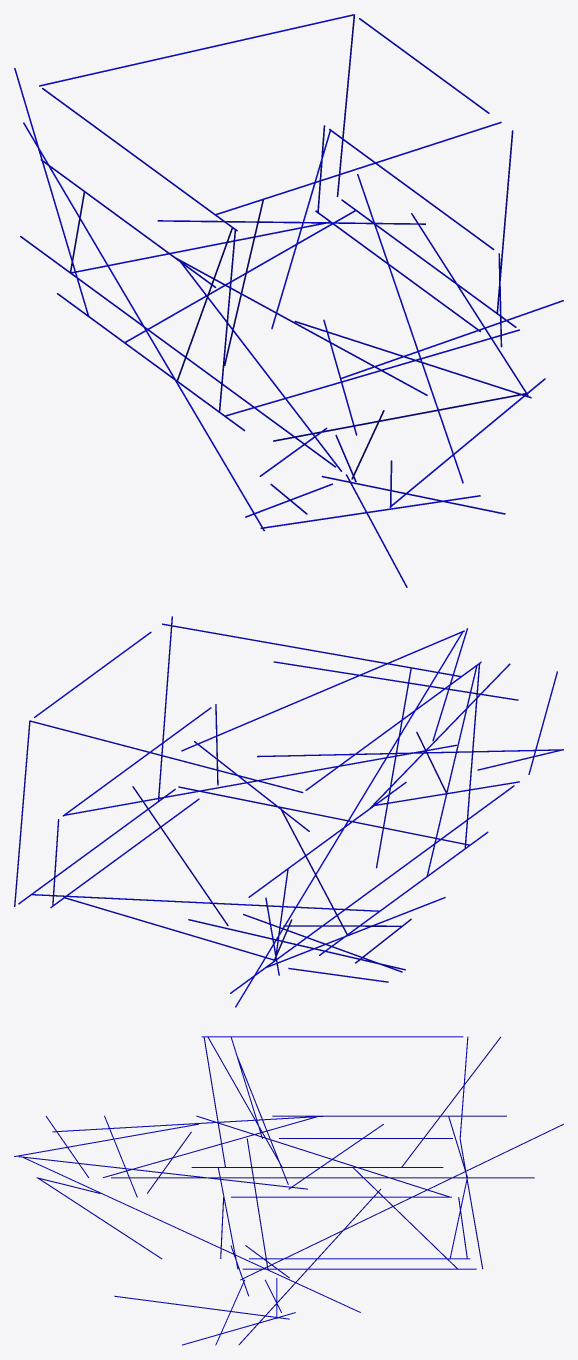
File: corrected_3d_strokes.glb
3 renders of one model, top to bottom at view 1: azimuth 30°, elevation 25°; view 2: azimuth 150°, elevation 25°; view 3: azimuth 270°, elevation 25°, orthographic. The views are drawn at different scales.
Visible parts, largest first — view 1: world; view 2: world; view 3: world.
Part boxes in pixels (x1,y1,x2,y2): world: [14, 14, 563, 587]; world: [14, 616, 563, 1007]; world: [14, 1036, 563, 1345].
Bounding box in the file's own units: 8.79 × 9.08 × 20.03.
